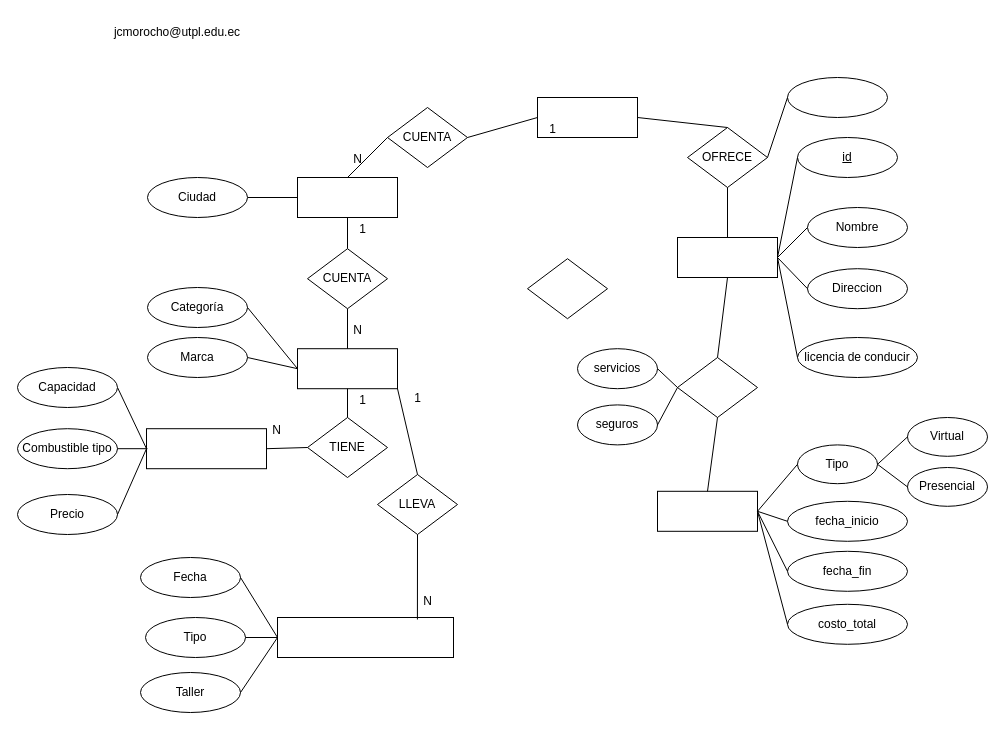
Some shapes in this 1005 by 730 pixel diagram are drawn without their labels. Here are the shapes that lost their labels. From the top down, the centre of each, then its label:
At [587,117]: "Empresa".
At [837,97]: "membresias".
At [347,197]: "Surcursales".
At [727,257]: "Clientes".
At [567,288]: "RENTAR".
At [347,368]: "Vehículos".
At [717,387]: "ADQUIRIR".
At [206,448]: "Características".
At [707,510]: "Renta".
At [365,637]: "Historial_Mantenimiento".
